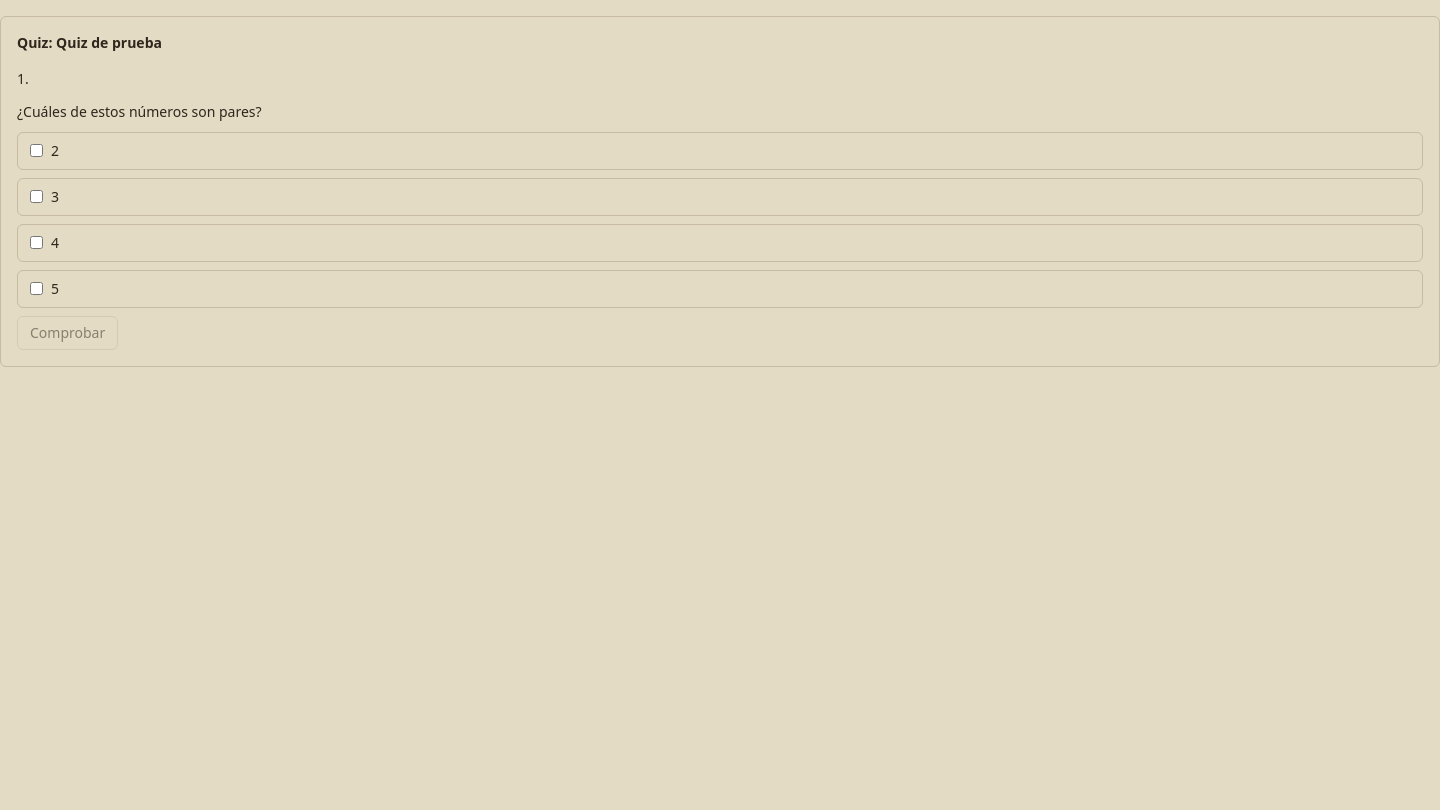
Test case: QuizCard — CA-11: corrección inmediata + explicación (tipo 'multi') › seleccionar exactamente el conjunto correcto ⇒ 'Correcta' + explicación
This screenshot has width=1440, height=810.
Step 1. Click the checkbox labelled "2" → [36, 151], box left=30, top=144, right=43, bottom=157
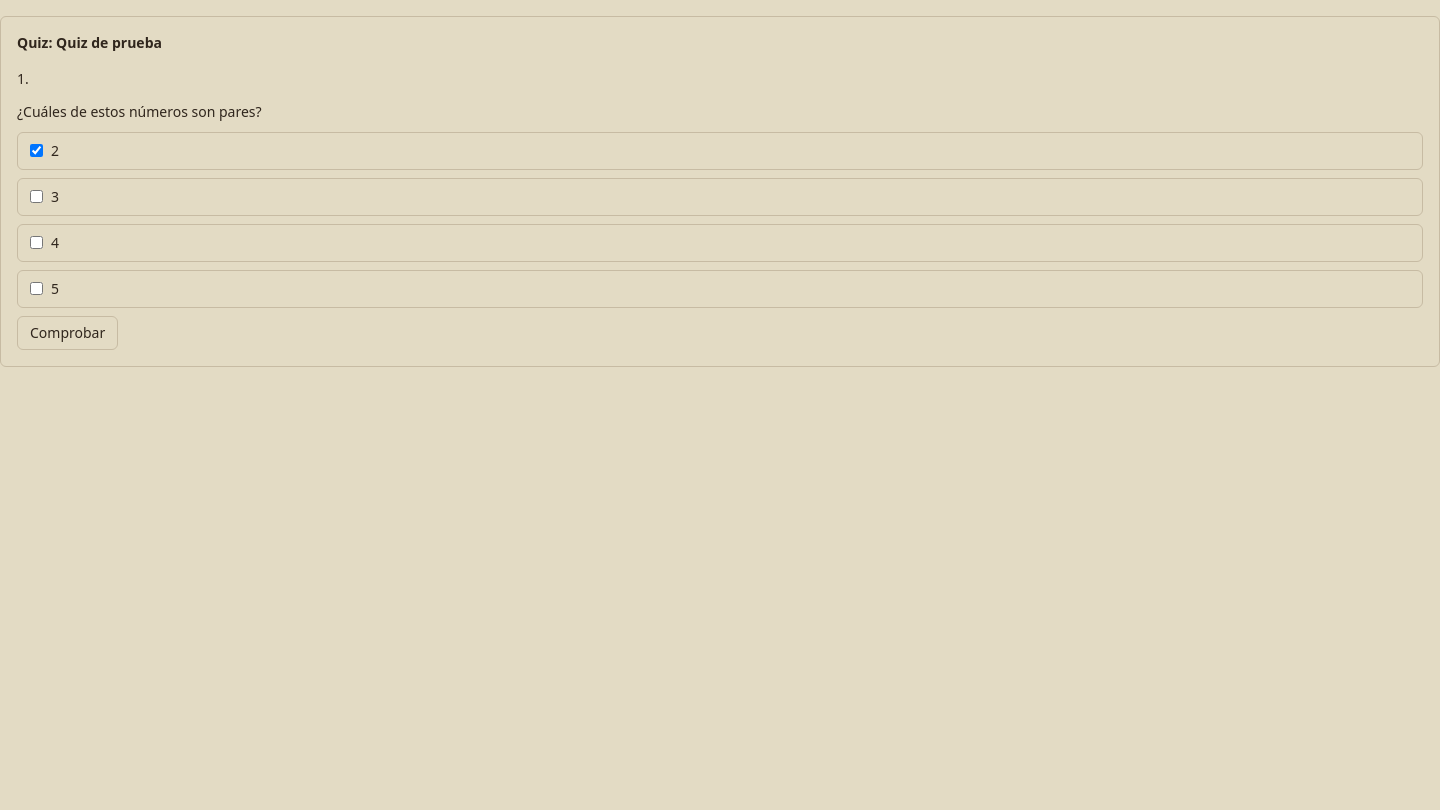
Step 2. Click the checkbox labelled "4" → [36, 243], box left=30, top=236, right=43, bottom=249
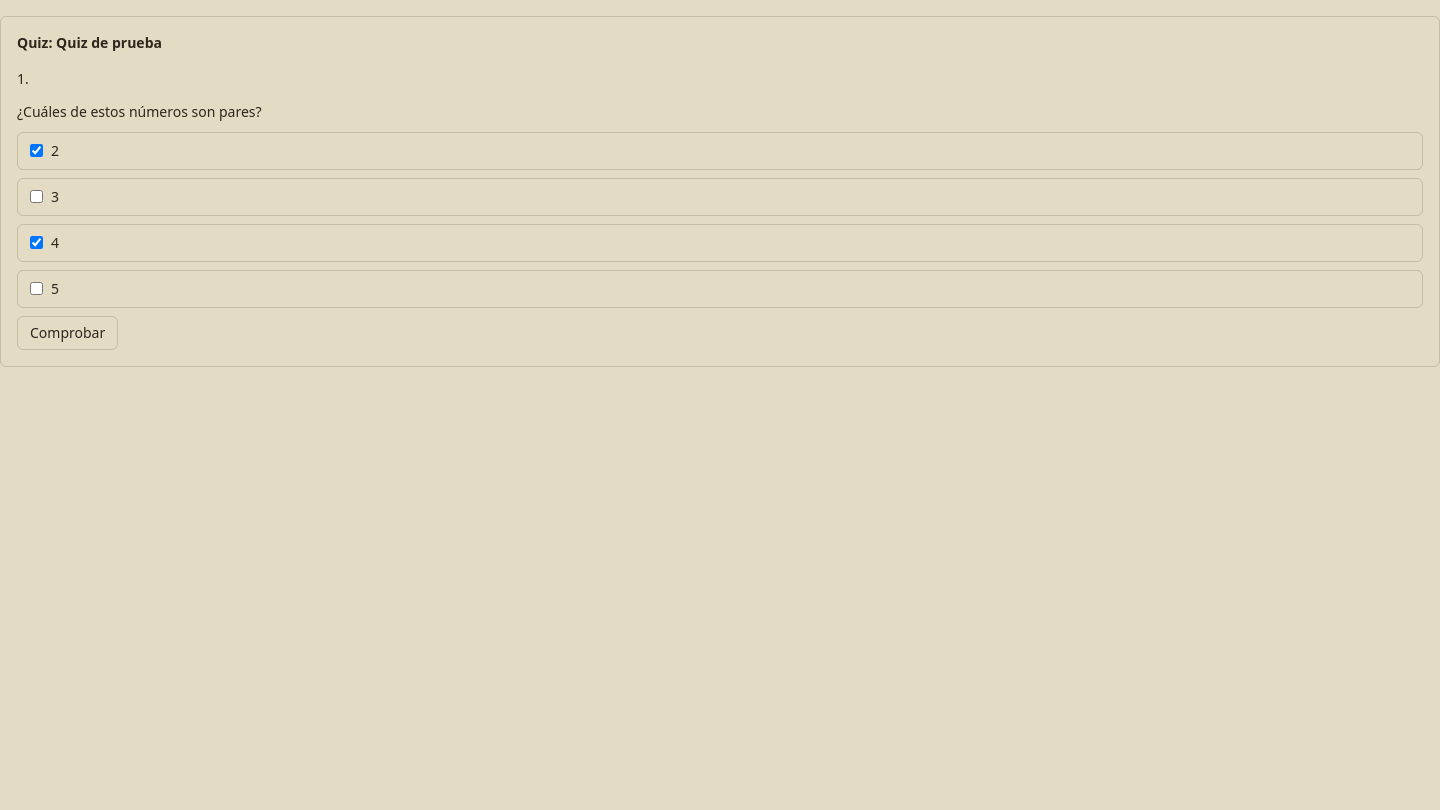
Step 3. Click the button "Comprobar" → [68, 333], box left=17, top=316, right=118, bottom=350
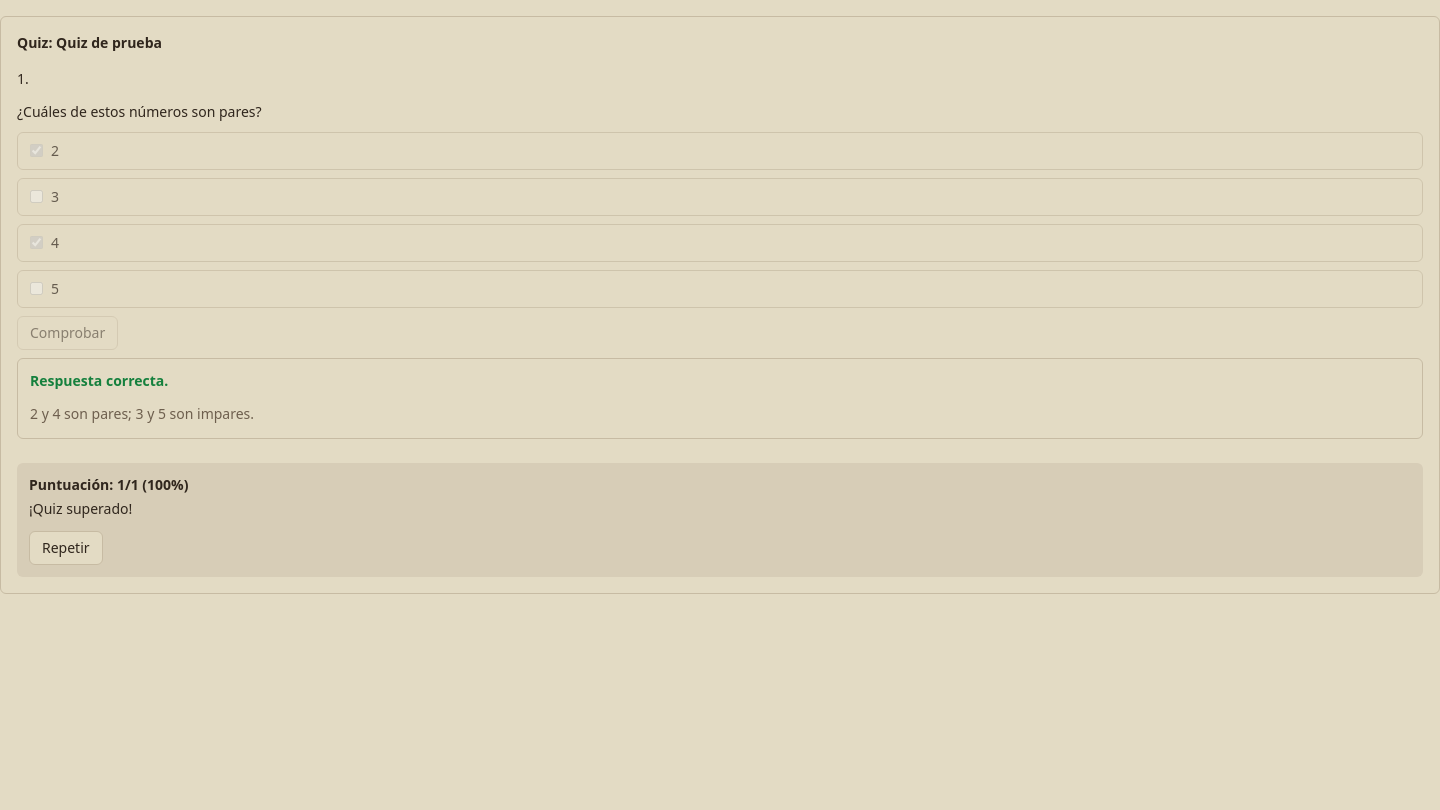
Check: the text "Respuesta correcta." is shown, box left=30, top=371, right=168, bottom=390
Check: the text "2 y 4 son pares; 3 y 5 son impares." is shown, box left=30, top=404, right=254, bottom=423
